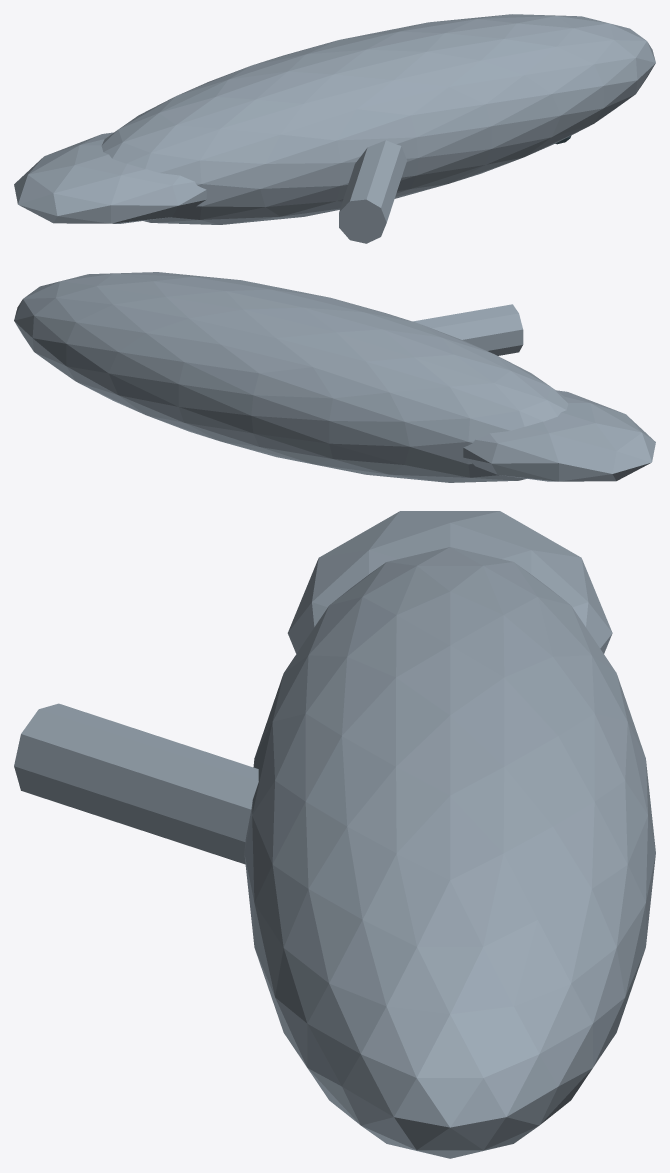
The model's file is shark.glb.
3 renders of one model, top to bottom at view 1: azimuth 30°, elevation 25°; view 2: azimuth 150°, elevation 25°; view 3: azimuth 270°, elevation 25°, orthographic. The views are drawn at different scales.
Parts seen in each view (by area): view 1: world; view 2: world; view 3: world.
Part boxes in pixels (bbox=[...]): world: bbox=[14, 14, 655, 243]; world: bbox=[14, 272, 655, 482]; world: bbox=[14, 511, 655, 1158].
Bounding box in the file's own units: 2.66 × 0.56 × 1.19.
